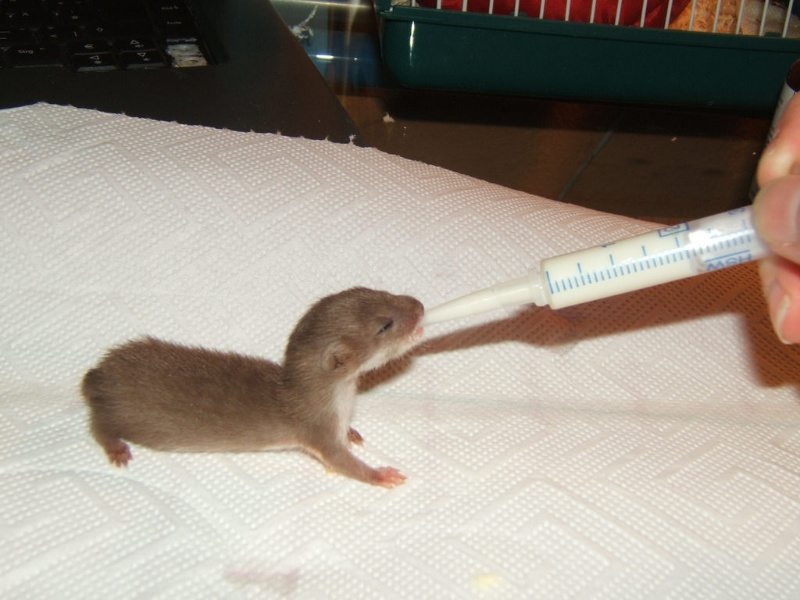minkish: (82, 284, 428, 492)
